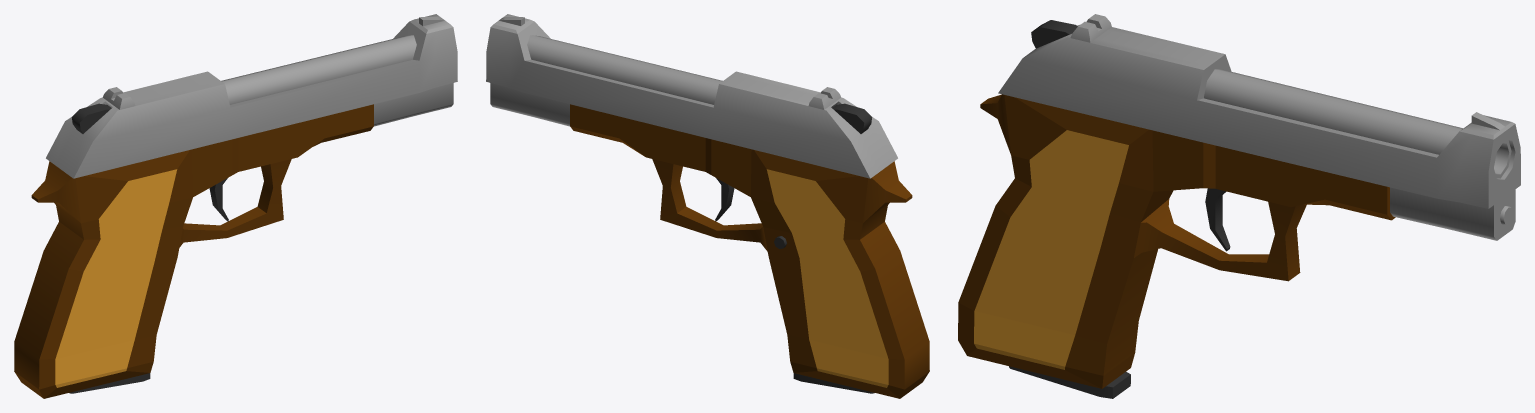
File: gun05.fbx
3 renders of one model, left to right at view 1: azimuth 30°, elevation 25°; view 2: azimuth 150°, elevation 25°; view 3: azimuth 330°, elevation 25°, orthographic. The views are drawn at different scales.
Visible parts, largest first — view 1: gun05; view 2: gun05; view 3: gun05.
Part boxes in pixels (box(x1,y1,x2,y2)): gun05: box(14, 14, 457, 398); gun05: box(486, 14, 929, 398); gun05: box(958, 14, 1520, 398).
Size of the model in its own units: 40.65 by 26.5 by 5.06.
